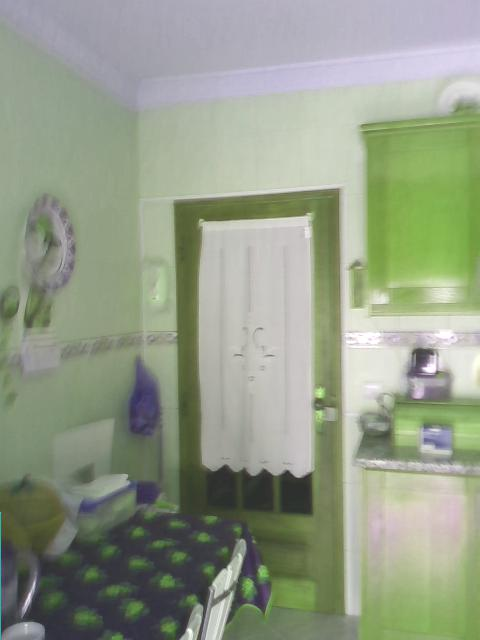closed_door: (173, 186, 346, 616)
